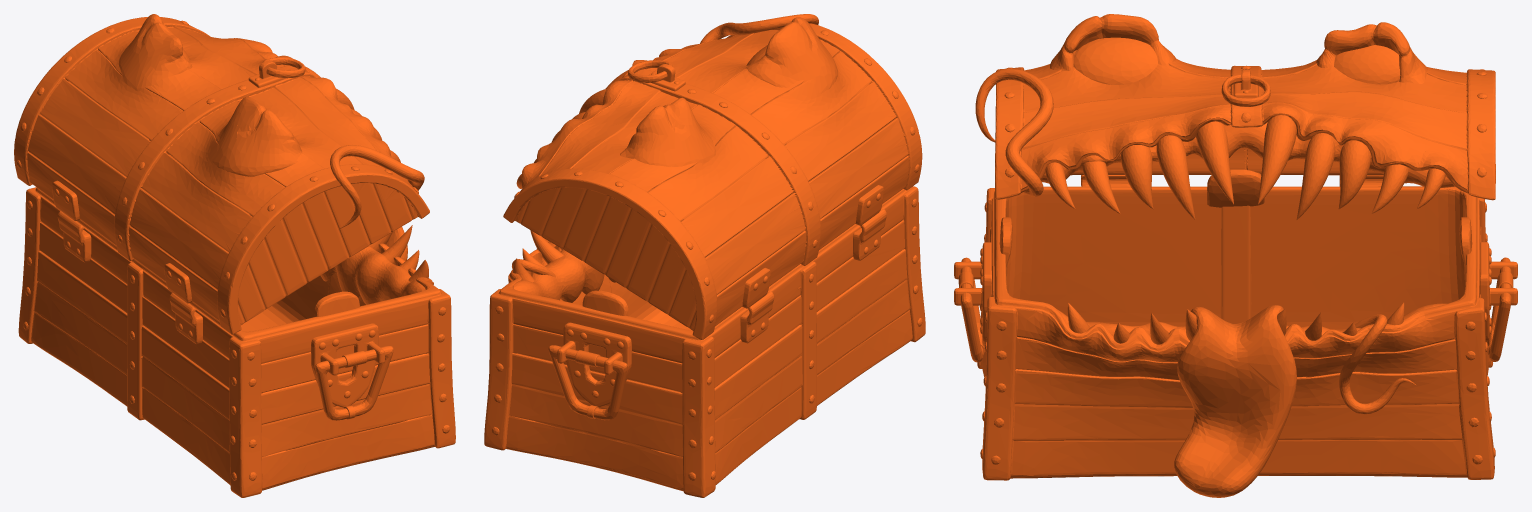
The model's file is mimic-chest.glb.
The picture shows the model from 3 angles, left to right: view 1: azimuth 30°, elevation 25°; view 2: azimuth 150°, elevation 25°; view 3: azimuth 270°, elevation 25°; orthographic projection. The views are drawn at different scales.
Visible parts, largest first — view 1: 00-mimic_bot; view 2: 00-mimic_bot; view 3: 00-mimic_bot.
Boxes of the visible parts, x1=… form: 00-mimic_bot: x1=14, y1=14, x2=455, y2=497; 00-mimic_bot: x1=484, y1=14, x2=925, y2=497; 00-mimic_bot: x1=954, y1=14, x2=1517, y2=497.
Size of the model in its own units: 57.67 by 65.41 by 86.15.
